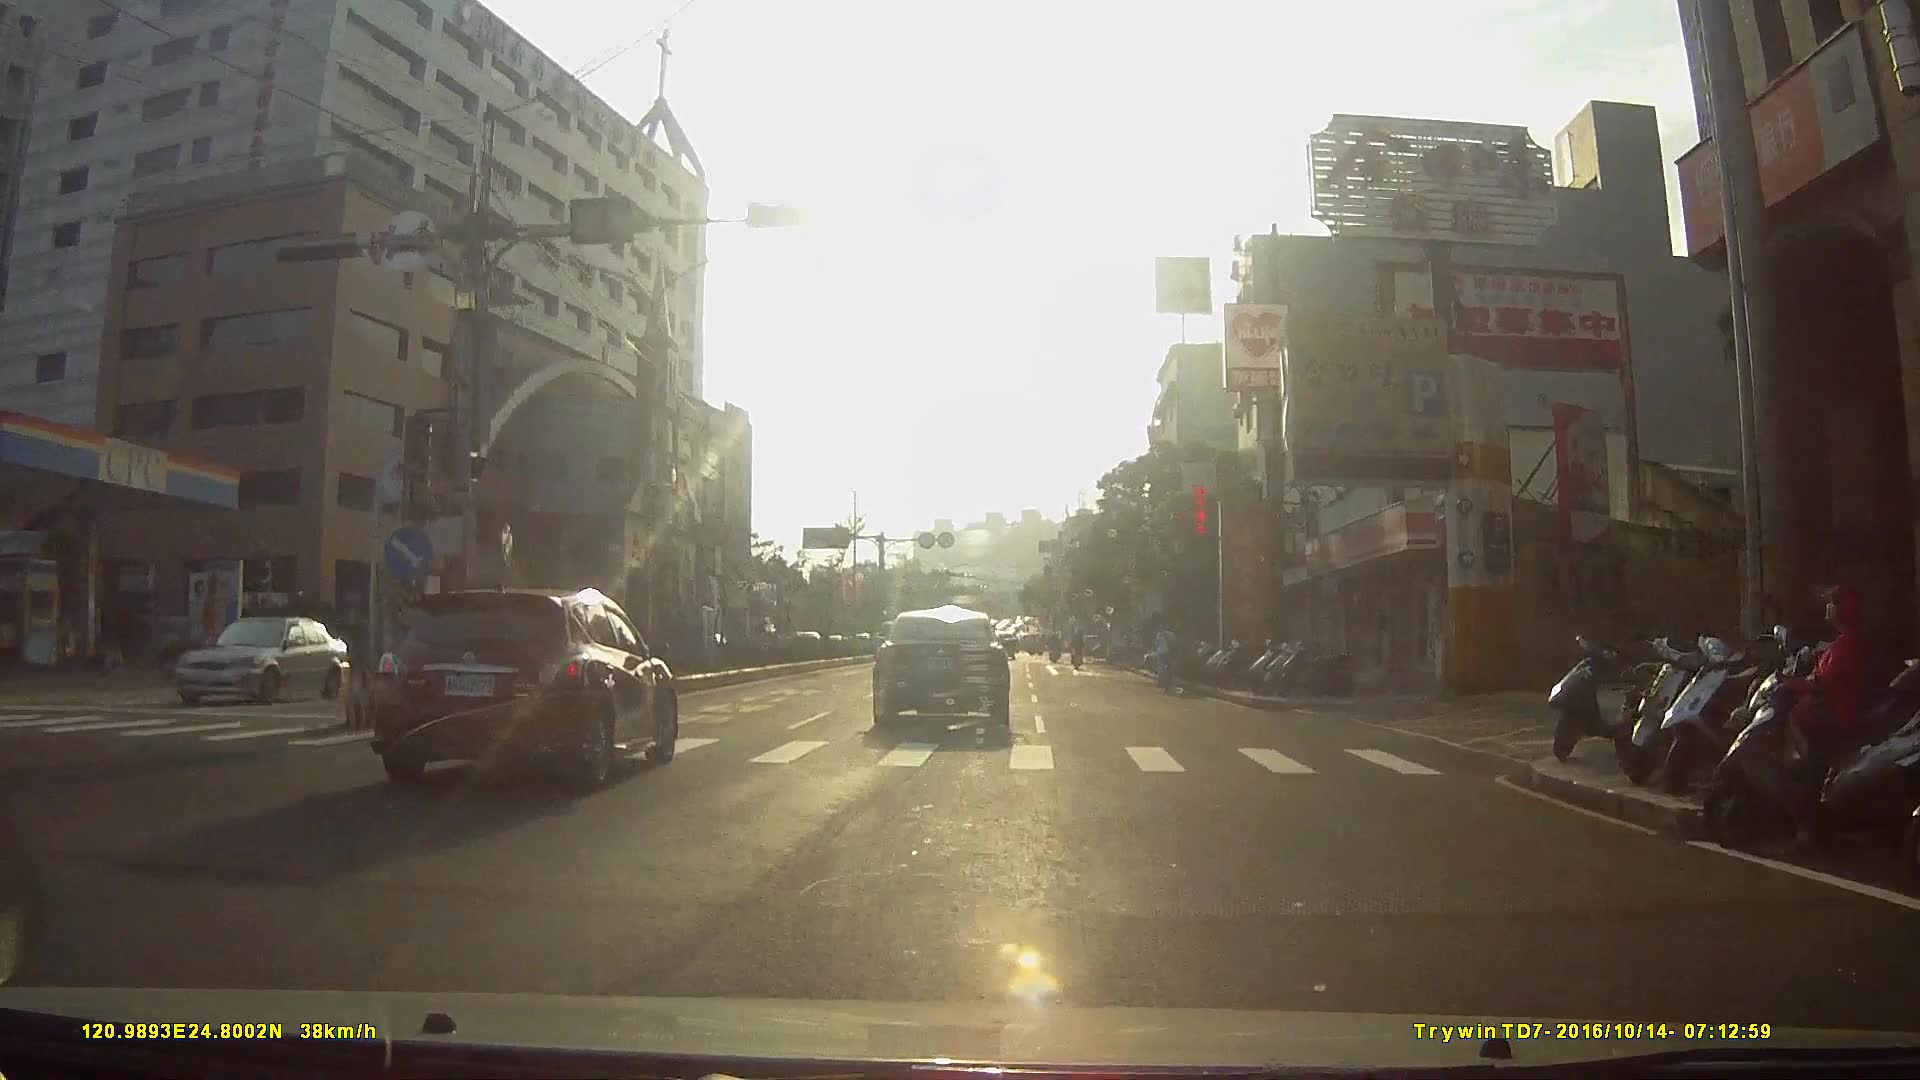rider: (1699, 582, 1910, 865), (1150, 621, 1180, 700)
vehicle: (370, 579, 691, 799), (158, 611, 361, 718), (864, 601, 1017, 737), (763, 607, 822, 662)
